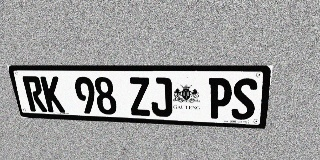8: (93, 77, 117, 115)
9: (73, 77, 98, 114)
J: (150, 77, 172, 117)
K: (40, 76, 65, 113)
P: (208, 78, 233, 119)
R: (22, 76, 47, 112)
S: (231, 78, 258, 120)
Z: (128, 77, 151, 116)
